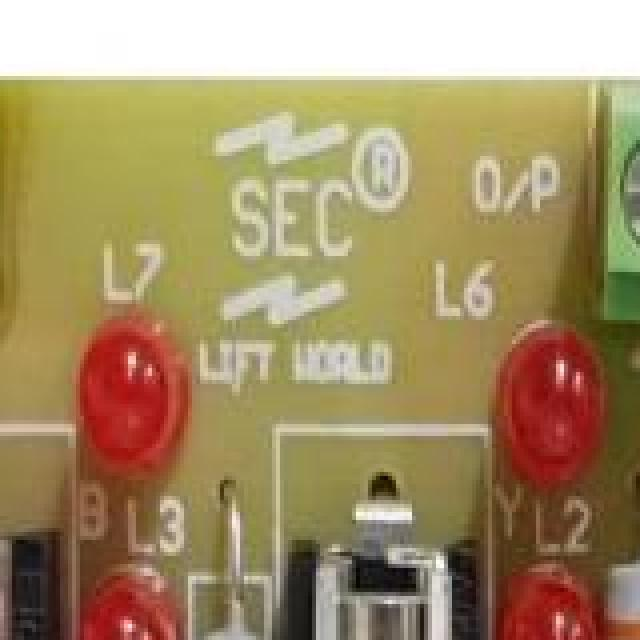LED: (488, 292, 606, 528), (84, 300, 204, 480), (500, 548, 596, 640), (80, 568, 176, 640)
connector: (588, 72, 640, 328), (0, 52, 4, 360)
fuse: (312, 536, 452, 640), (0, 536, 8, 640)
resistor: (192, 572, 284, 640), (608, 556, 640, 640)
